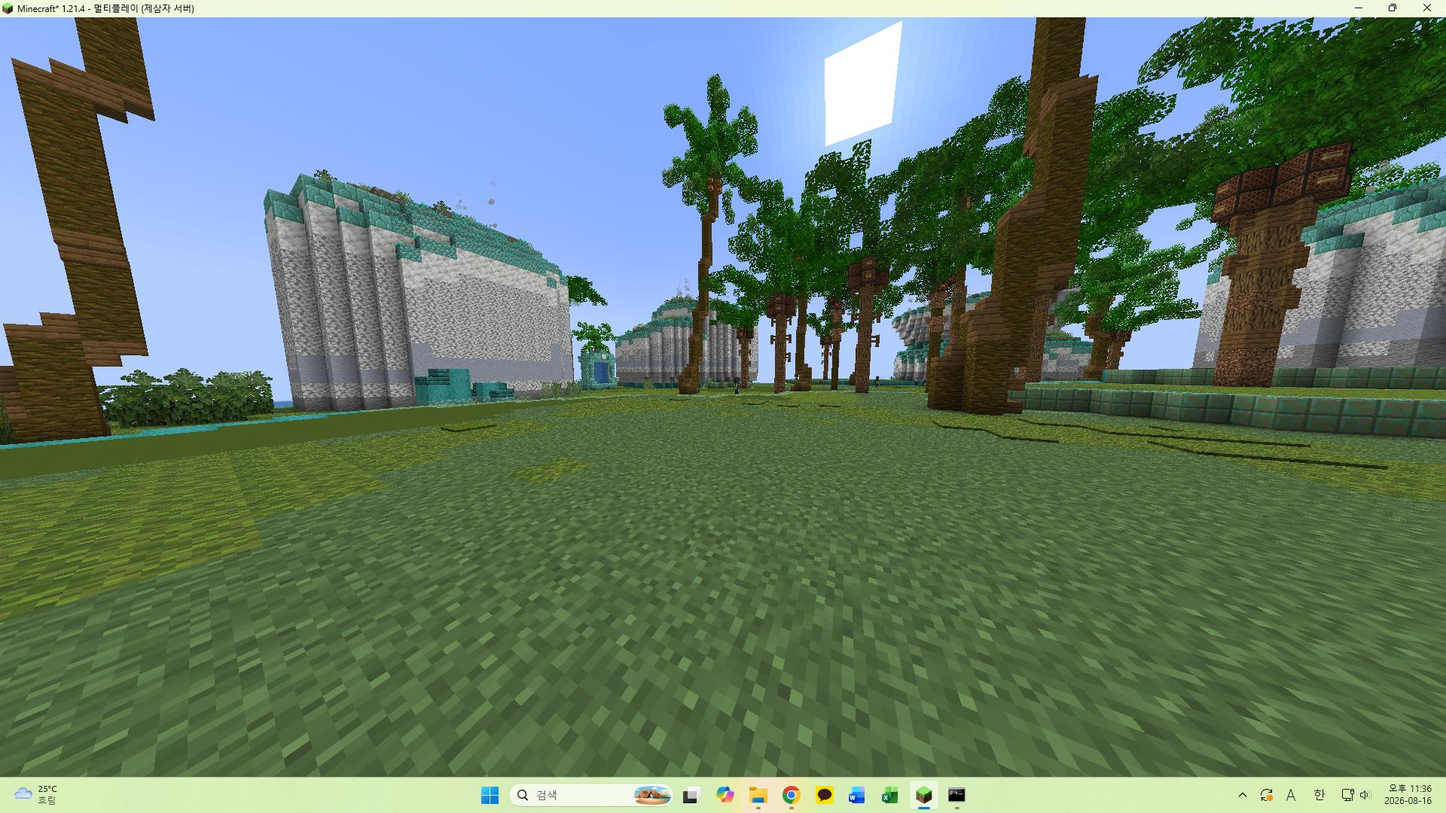Guardian: (734, 380, 741, 394)
